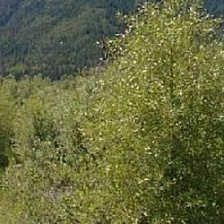neutral: (11, 12, 221, 214)
